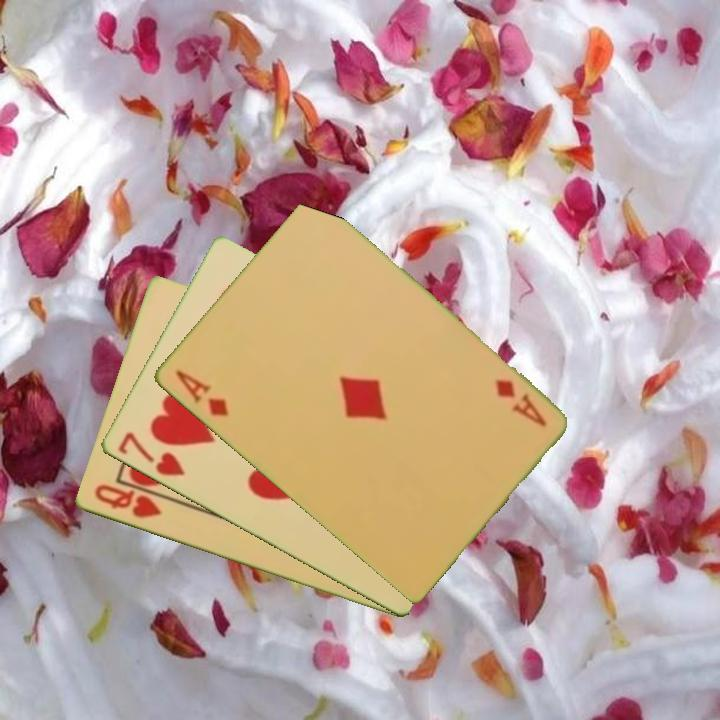7h: (113, 428, 188, 480)
Ad: (170, 366, 231, 420), (490, 375, 549, 430)
Qh: (90, 481, 164, 522)
